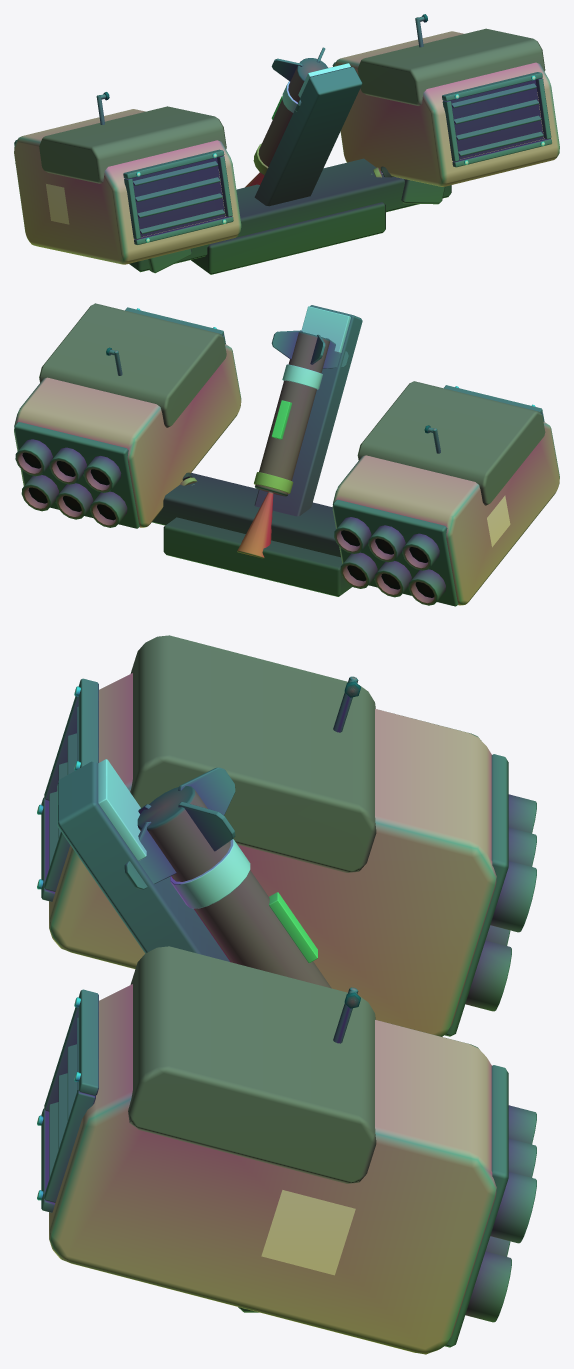
File: back_missile.glb
3 views of the same model, one above another, from view 1: azimuth 30°, elevation 25°; view 2: azimuth 150°, elevation 25°; view 3: azimuth 270°, elevation 25° (orthographic). The views are drawn at different scales.
Parts seen in each view (by area): view 1: Body__armor, Body__dark, Body__gunmetal, Body__armor_oxide, Body__decal, Body__hazard; view 2: Body__armor, Body__armor_oxide, Body__gunmetal, Body__dark, Body__bore, Body__hazard, Body__decal, Body__accent, Body__emit_green; view 3: Body__armor, Body__armor_oxide, Body__gunmetal, Body__dark, Body__decal, Body__hazard, Body__emit_green.
Boxes of the visible parts, x1,y1,x2,y2 form: Body__armor: (14, 31, 559, 264); Body__dark: (103, 14, 543, 274); Body__gunmetal: (14, 16, 551, 273); Body__armor_oxide: (39, 28, 545, 187); Body__decal: (46, 184, 69, 224); Body__hazard: (282, 63, 350, 112); Body__armor: (14, 344, 559, 605); Body__armor_oxide: (39, 303, 545, 558); Body__gunmetal: (14, 305, 544, 606); Body__dark: (106, 331, 430, 596); Body__bore: (22, 452, 434, 597); Body__hazard: (282, 306, 350, 389); Body__decal: (487, 495, 510, 547); Body__accent: (254, 472, 293, 493); Body__emit_green: (271, 400, 291, 439); Body__armor: (49, 673, 496, 1354); Body__armor_oxide: (128, 635, 376, 1183); Body__gunmetal: (41, 676, 536, 1347); Body__dark: (137, 681, 360, 1312); Body__decal: (261, 1190, 355, 1275); Body__hazard: (98, 759, 250, 908); Body__emit_green: (269, 892, 317, 962).
Bounding box in the file's own units: 2.16 × 0.9659 × 1.05.
